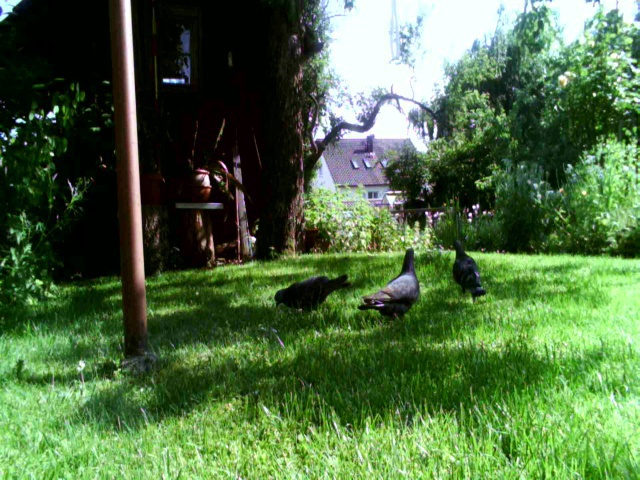Pigeon: (360, 243, 425, 325), (271, 272, 354, 320), (447, 240, 487, 298)
